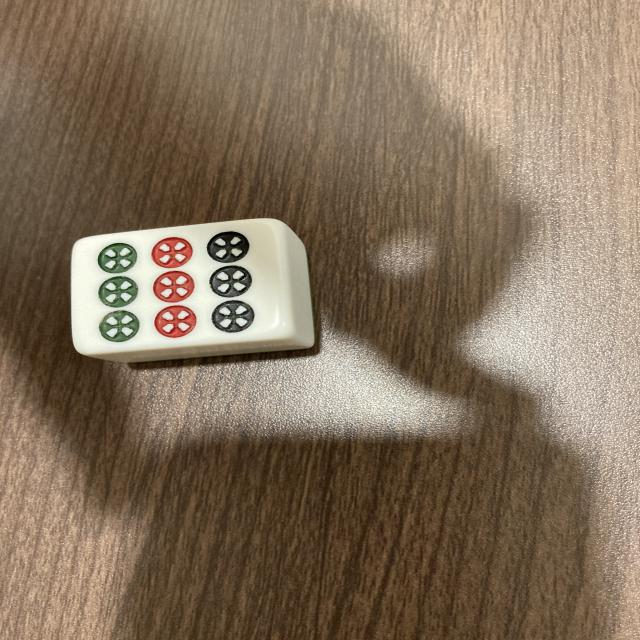t9: (76, 222, 290, 349)
